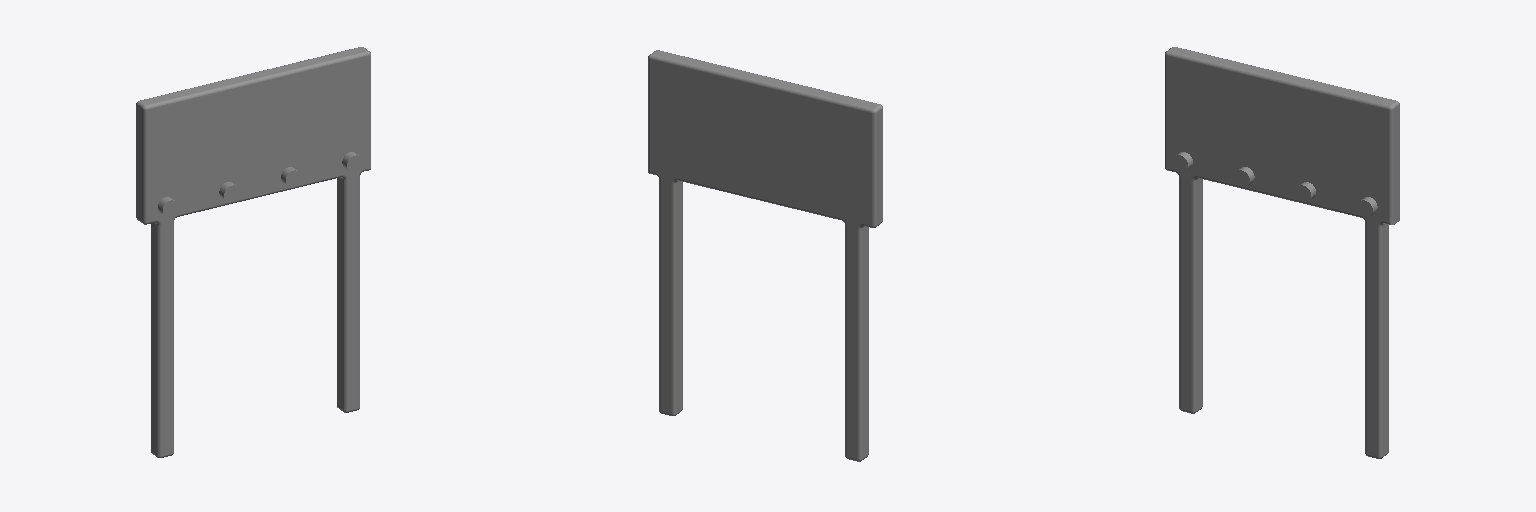
Rendered from Kiosk.obj.
3 views of the same model, side by side, from view 1: azimuth 30°, elevation 25°; view 2: azimuth 150°, elevation 25°; view 3: azimuth 330°, elevation 25° (orthographic).
Visible parts, largest first — view 1: Object.1; view 2: Object.1; view 3: Object.1.
Part boxes in pixels (left/top/right/bottom): Object.1: left=136, top=47, right=370, bottom=457; Object.1: left=648, top=50, right=882, bottom=461; Object.1: left=1165, top=47, right=1399, bottom=458.
Bounding box in the file's own units: 179 × 267 × 19.05.